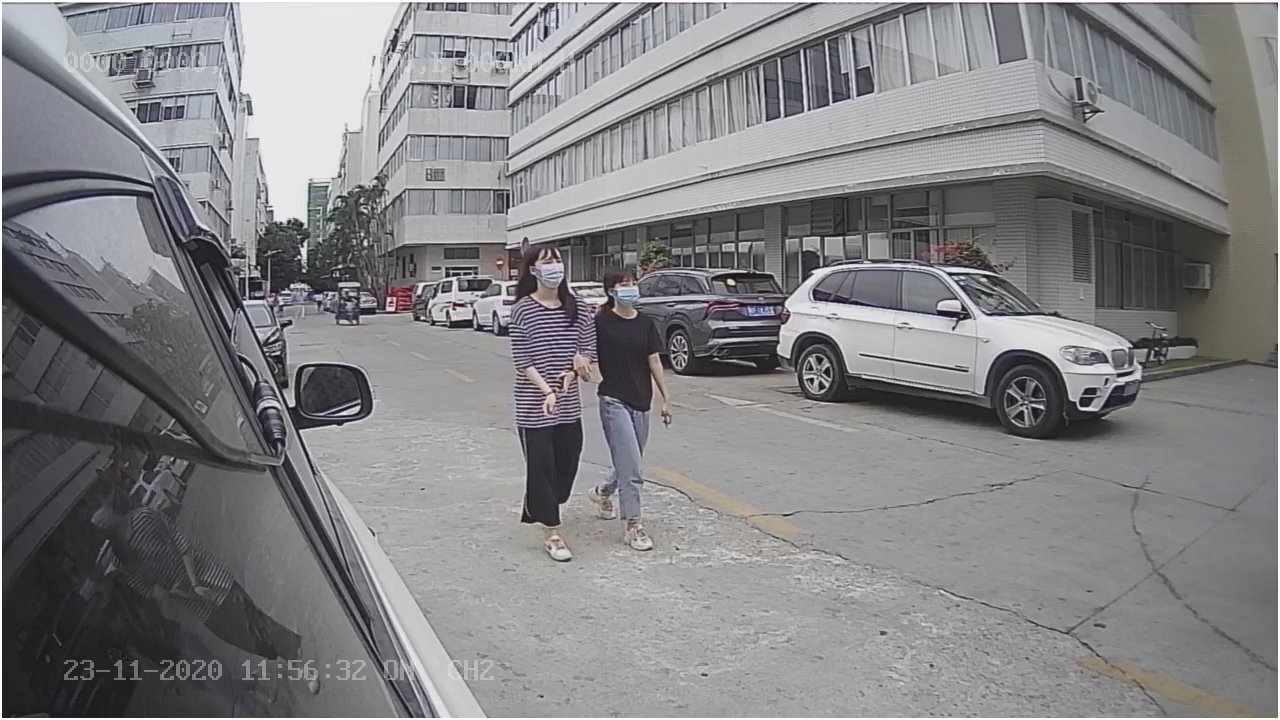person: (500, 238, 600, 575), (584, 263, 681, 557)
